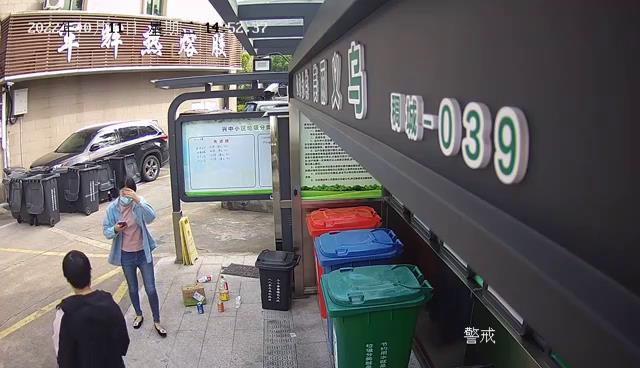lvzhipin: (196, 301, 205, 314), (216, 300, 225, 313)
person: (50, 248, 130, 368)
suliaozhipin: (217, 275, 230, 303), (196, 274, 212, 283)
worker: (101, 175, 168, 337)
zhizhipin: (180, 283, 207, 307)
